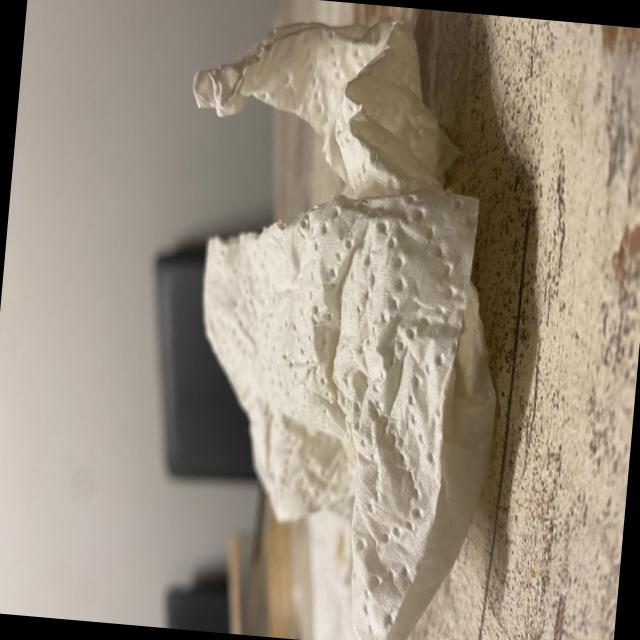organic waste: (144, 167, 514, 640), (186, 0, 479, 196)
